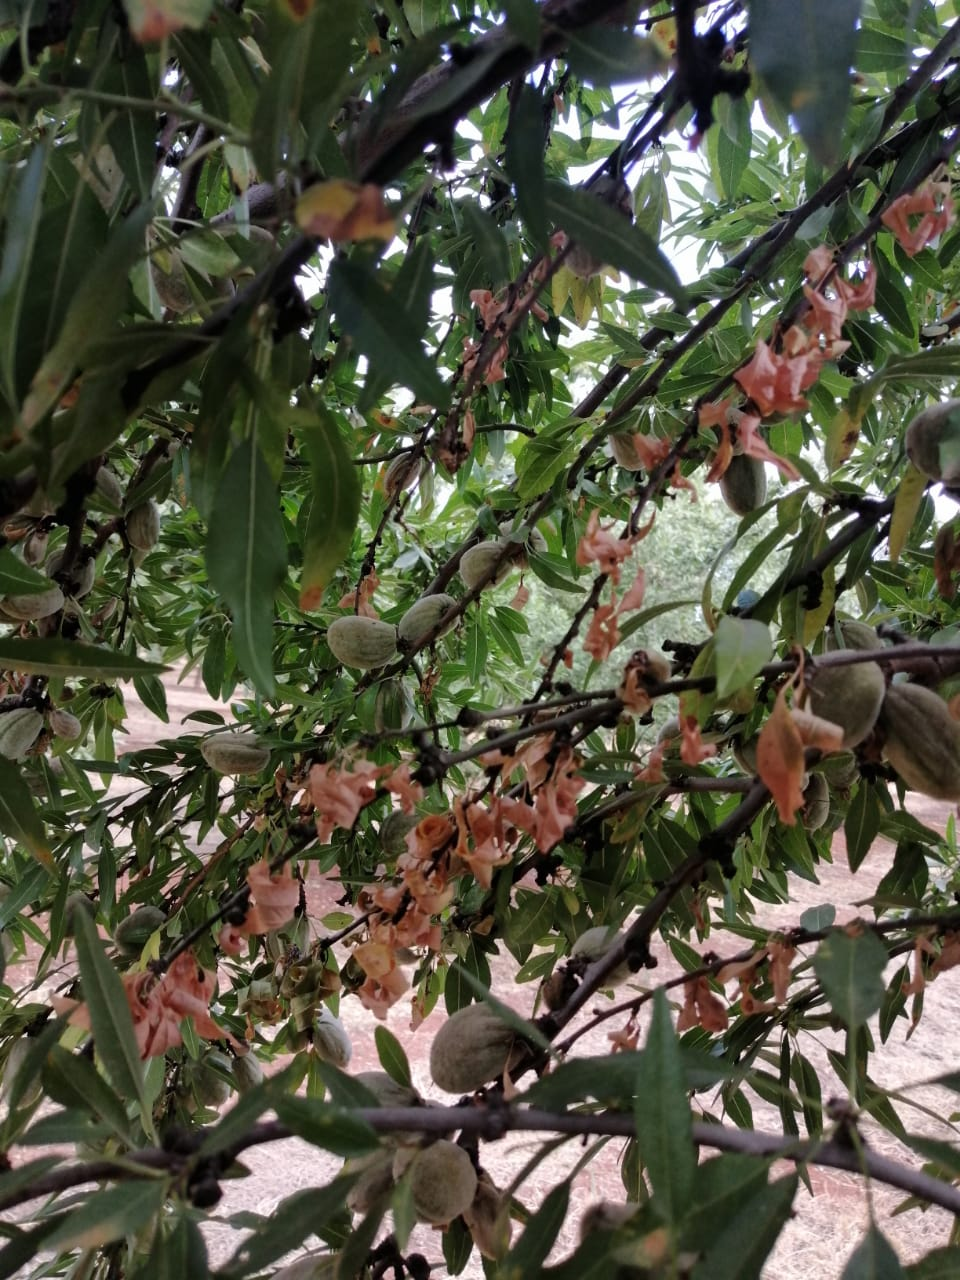chancre fusicocum: (556, 171, 960, 652), (48, 756, 424, 1064), (338, 727, 584, 1018), (545, 899, 960, 1060)
